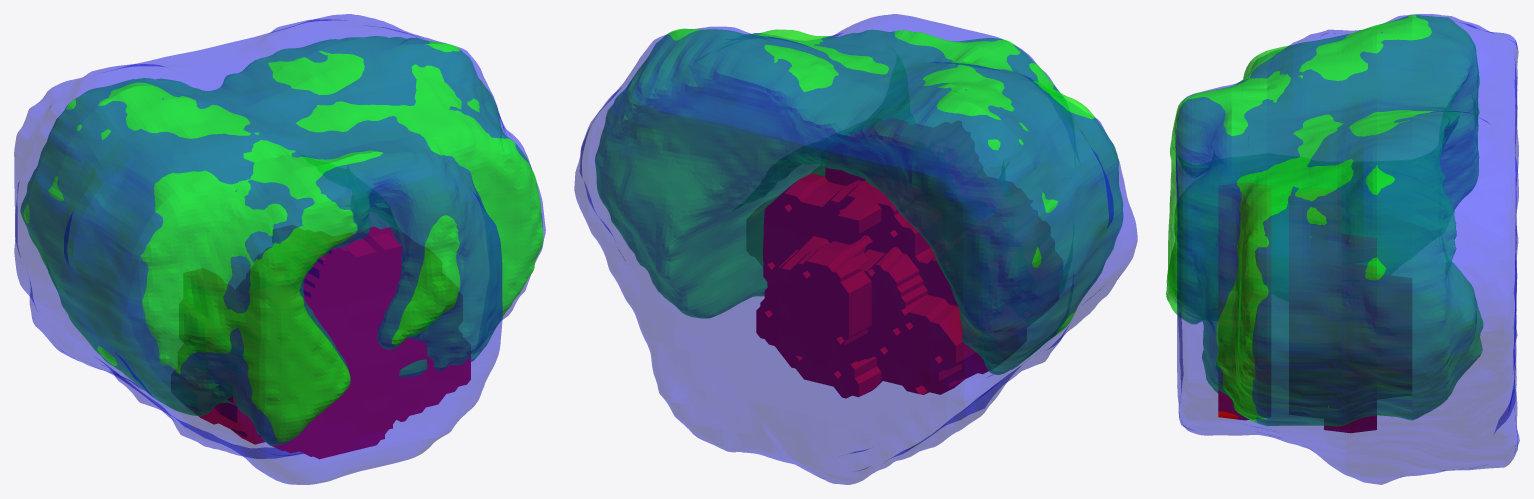
Rendered from NCKU_Training_15.glb.
3 renders of one model, left to right at view 1: azimuth 30°, elevation 25°; view 2: azimuth 150°, elevation 25°; view 3: azimuth 270°, elevation 25°, orthographic. The views are drawn at different scales.
Visible parts, largest first — view 1: model_pz.obj, model_gland.obj, mesh_lesion.obj; view 2: model_gland.obj, model_pz.obj, mesh_lesion.obj; view 3: model_gland.obj, model_pz.obj, mesh_lesion.obj.
Boxes of the visible parts, left/top/right/bottom form: model_pz.obj: left=20, top=36, right=543, bottom=445; model_gland.obj: left=14, top=14, right=545, bottom=484; mesh_lesion.obj: left=199, top=226, right=470, bottom=459; model_gland.obj: left=574, top=14, right=1137, bottom=484; model_pz.obj: left=595, top=28, right=1122, bottom=374; mesh_lesion.obj: left=756, top=167, right=988, bottom=398; model_gland.obj: left=1176, top=14, right=1519, bottom=484; model_pz.obj: left=1166, top=14, right=1482, bottom=426; mesh_lesion.obj: left=1218, top=390, right=1376, bottom=433.
Size of the model in its own units: 0.0447 by 0.0359 by 0.0301.
